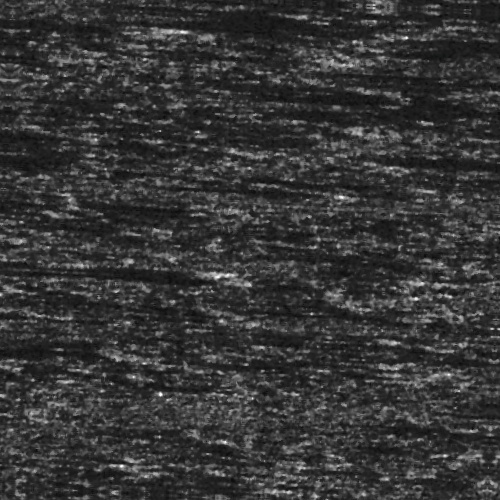object: (82, 26, 207, 39), (76, 352, 159, 367), (179, 207, 262, 218), (248, 480, 301, 491), (11, 63, 94, 70), (32, 267, 95, 276), (216, 277, 247, 286), (281, 184, 334, 189), (330, 0, 393, 4), (292, 52, 323, 59), (410, 302, 421, 317), (215, 270, 236, 277)
shadow: (0, 26, 144, 39), (292, 302, 415, 317), (0, 352, 117, 367), (36, 277, 231, 286), (0, 270, 225, 277), (398, 143, 500, 158), (135, 480, 274, 491), (112, 184, 307, 189), (154, 207, 221, 218), (0, 267, 63, 276), (226, 0, 361, 4), (239, 52, 307, 59), (0, 63, 53, 70), (0, 145, 79, 146)
